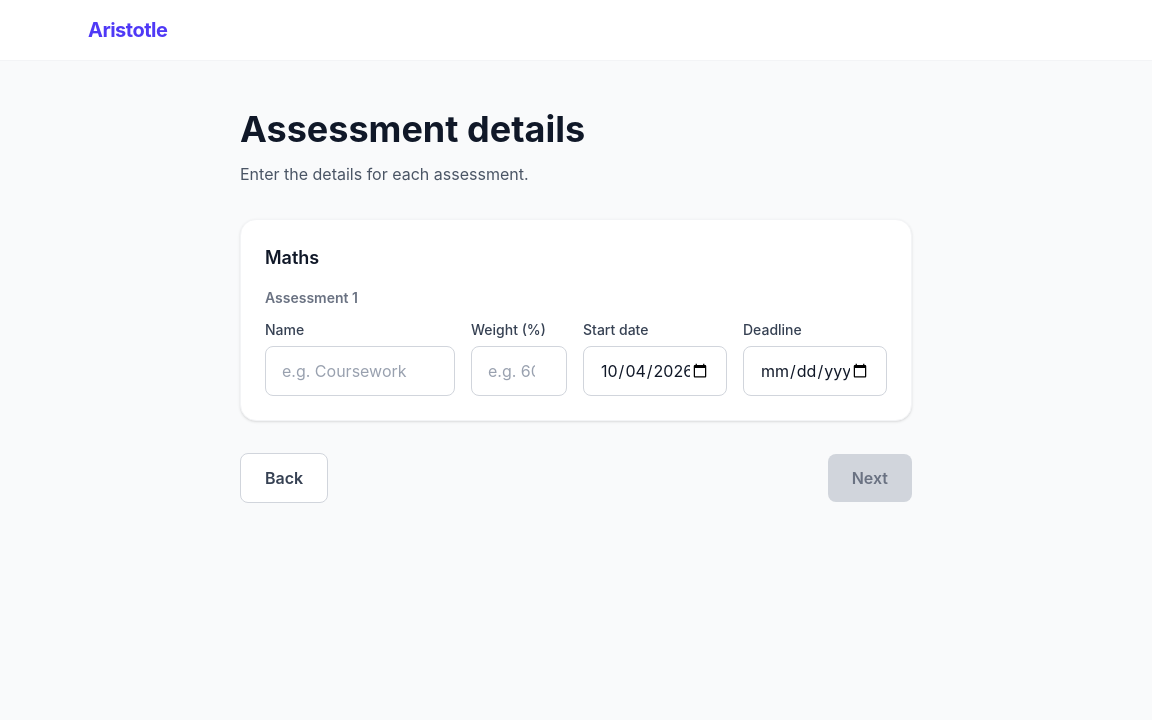
it: AssessmentDetailsPage › navigates to weekly schedule page on Next click when valid
This screenshot has width=1152, height=720.
Type "Final Exam" into the field labelled "Name" at (360, 371), box x1=265 y1=346 x2=455 y2=396
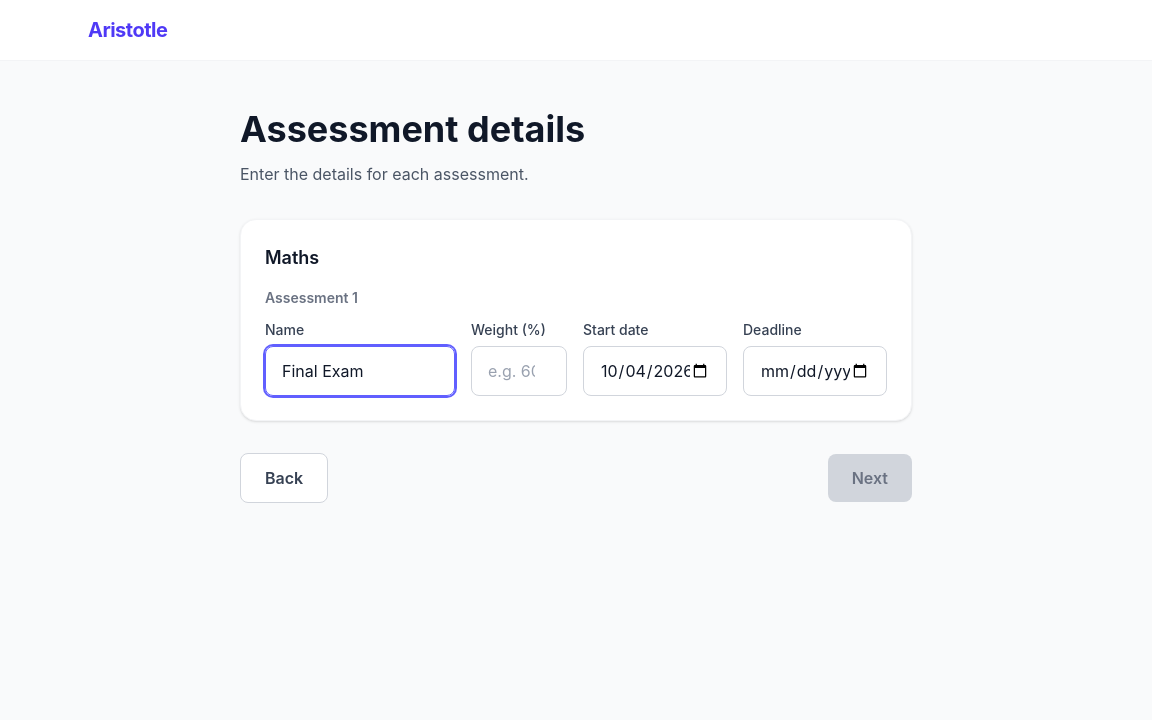
Type "100" into the number field labelled "Weight (%)" at (519, 371), box x1=471 y1=346 x2=567 y2=396
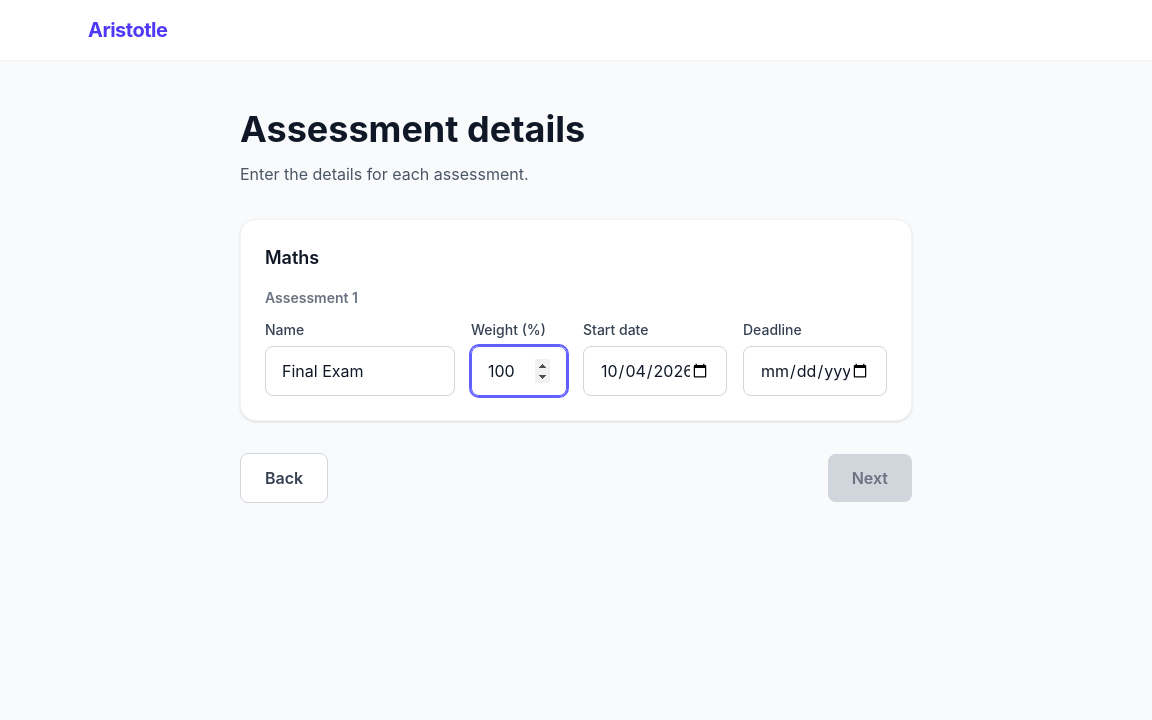
Type "2027-12-31" into the date field labelled "Deadline" at (815, 371), box x1=743 y1=346 x2=887 y2=396
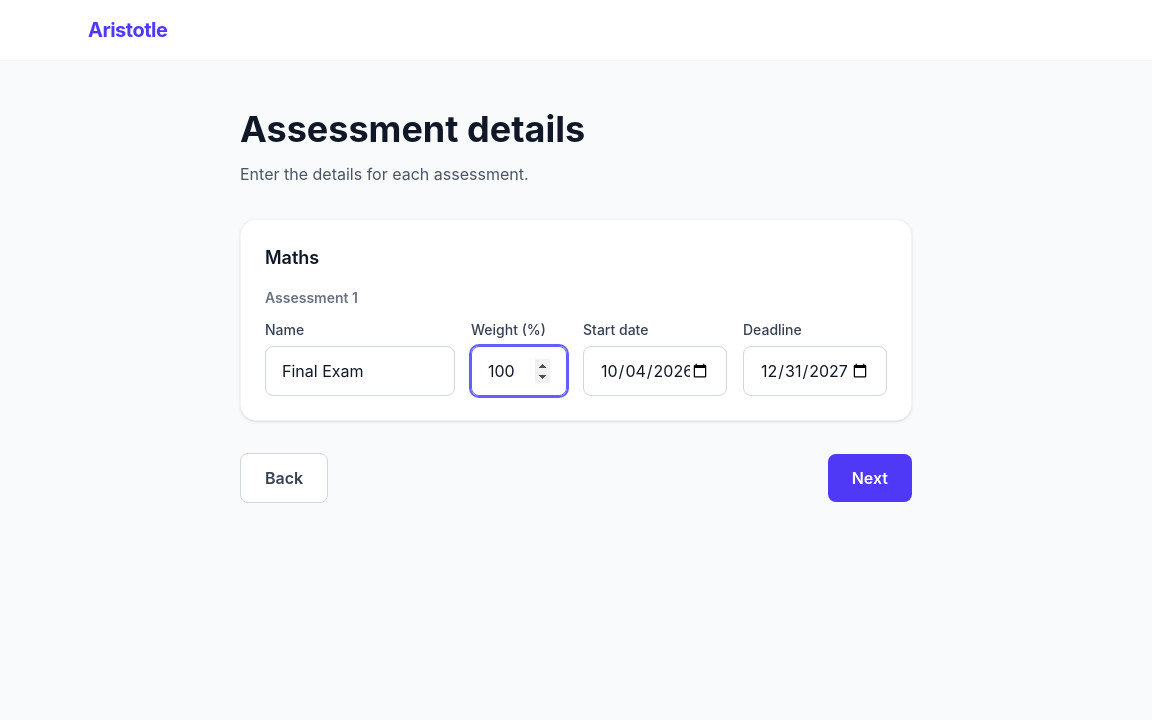
Result: the button "Next" is enabled
Click the button "Next" at (870, 478), box x1=828 y1=454 x2=912 y2=502
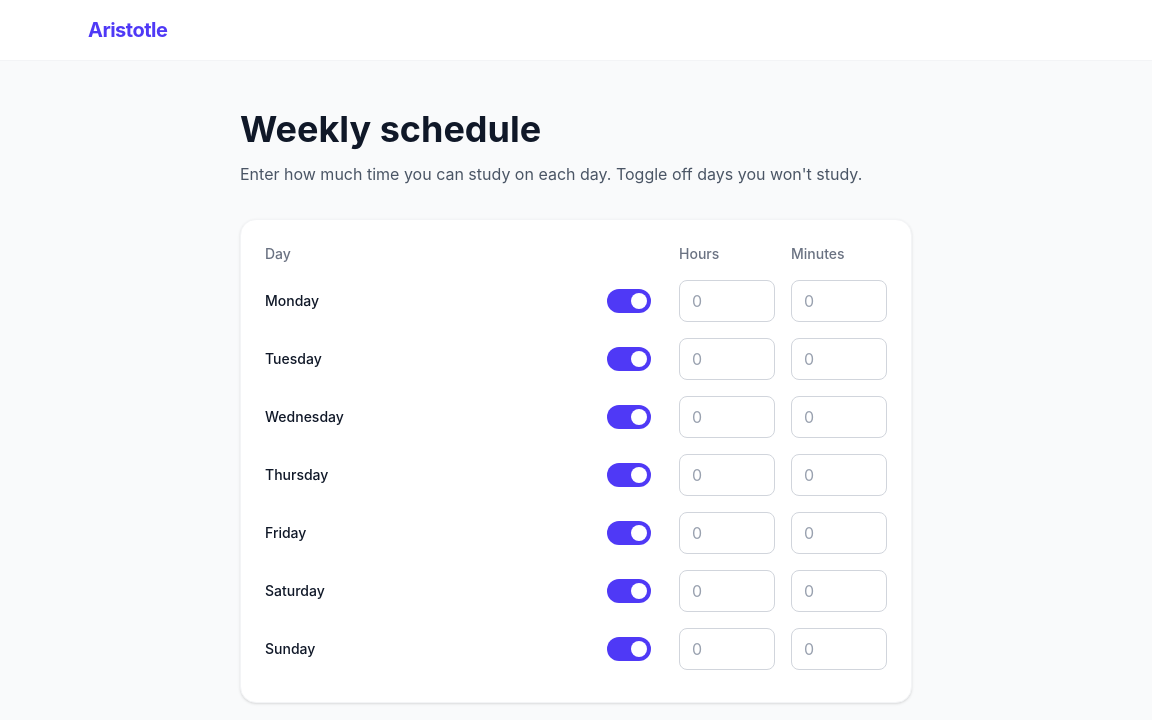
Result: the heading "Weekly schedule" is shown at x1=240 y1=107 x2=541 y2=151
